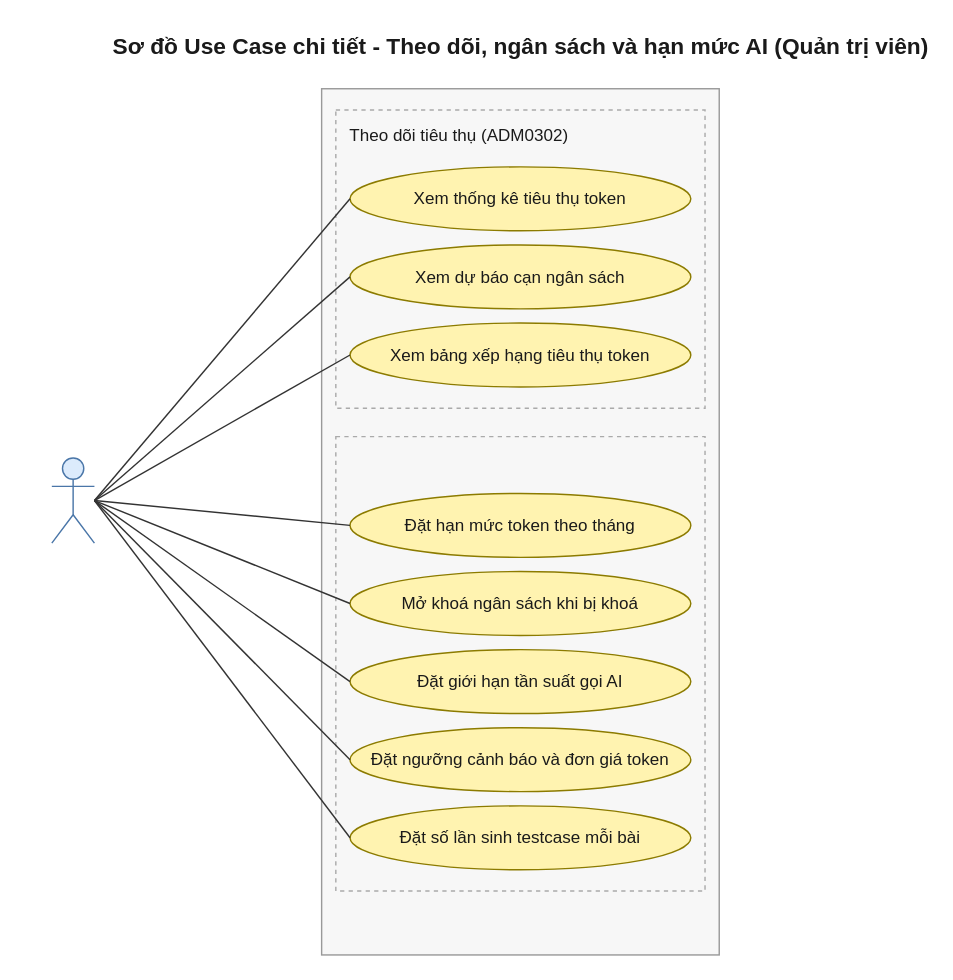
Image size: 953x980. Some labels were removed from this diagram. The shapes that lost their labels are listed below. From the top down, each one's box as (x1, y1, x2, y2) in pixels, then its label:
(50, 457, 94, 543): Quản trị viên
(320, 87, 719, 955): Theo dõi và hạn mức AI
(334, 435, 705, 891): Hạn mức và chi phí (ADM0303)
